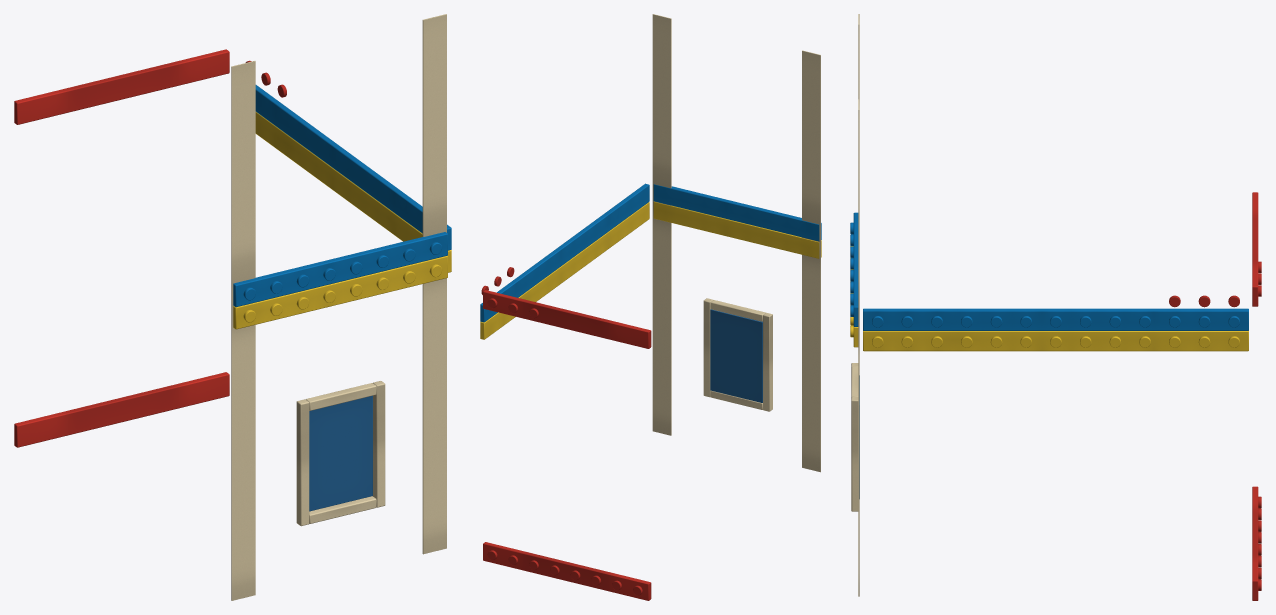
The model's file is 5-right-stand-box-2.fbx.
3 views of the same model, side by side, from view 1: azimuth 30°, elevation 25°; view 2: azimuth 150°, elevation 25°; view 3: azimuth 270°, elevation 25° (orthographic). The views are drawn at different scales.
Parts seen in each view (by area): view 1: right-stand-box-2; view 2: right-stand-box-2; view 3: right-stand-box-2.
Boxes of the visible parts, left/top/right/bottom form: right-stand-box-2: left=14, top=14, right=451, bottom=600; right-stand-box-2: left=480, top=14, right=821, bottom=600; right-stand-box-2: left=850, top=14, right=1261, bottom=600.
Bounding box in the file's own units: 4248 × 9700 × 7345.
1 material, 1 textured.
